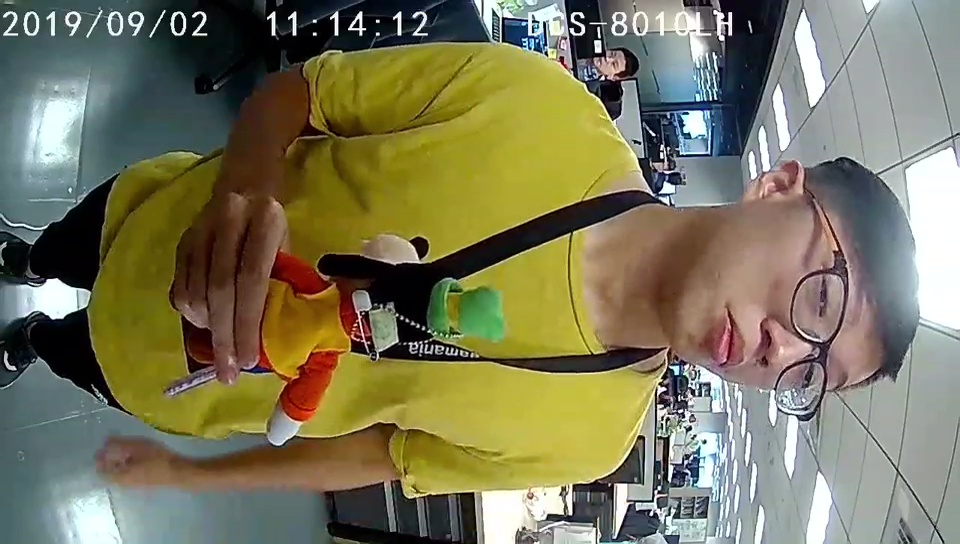goofy: (266, 252, 505, 450)
